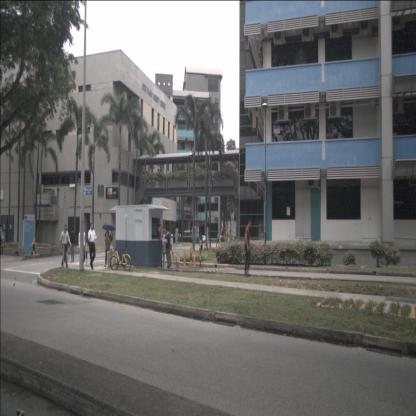human-pedestrian-adult: (102, 221, 116, 268), (59, 224, 72, 269), (88, 223, 100, 270), (244, 219, 252, 276), (163, 227, 172, 270), (78, 226, 86, 270), (68, 226, 77, 263), (1, 226, 7, 256), (104, 228, 109, 263), (0, 225, 4, 254), (199, 232, 203, 251), (216, 232, 220, 248), (110, 230, 113, 250), (225, 232, 228, 246), (227, 235, 229, 244), (219, 234, 221, 243)
movable_object-trafficcone: (182, 252, 187, 268), (192, 252, 197, 268), (168, 252, 172, 268), (176, 252, 180, 268)
vehicle-bicycle: (109, 244, 132, 272)
vehicle-car: (197, 235, 207, 243)
